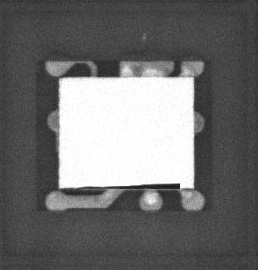DIE_BROKEN: (80, 181, 183, 190)
